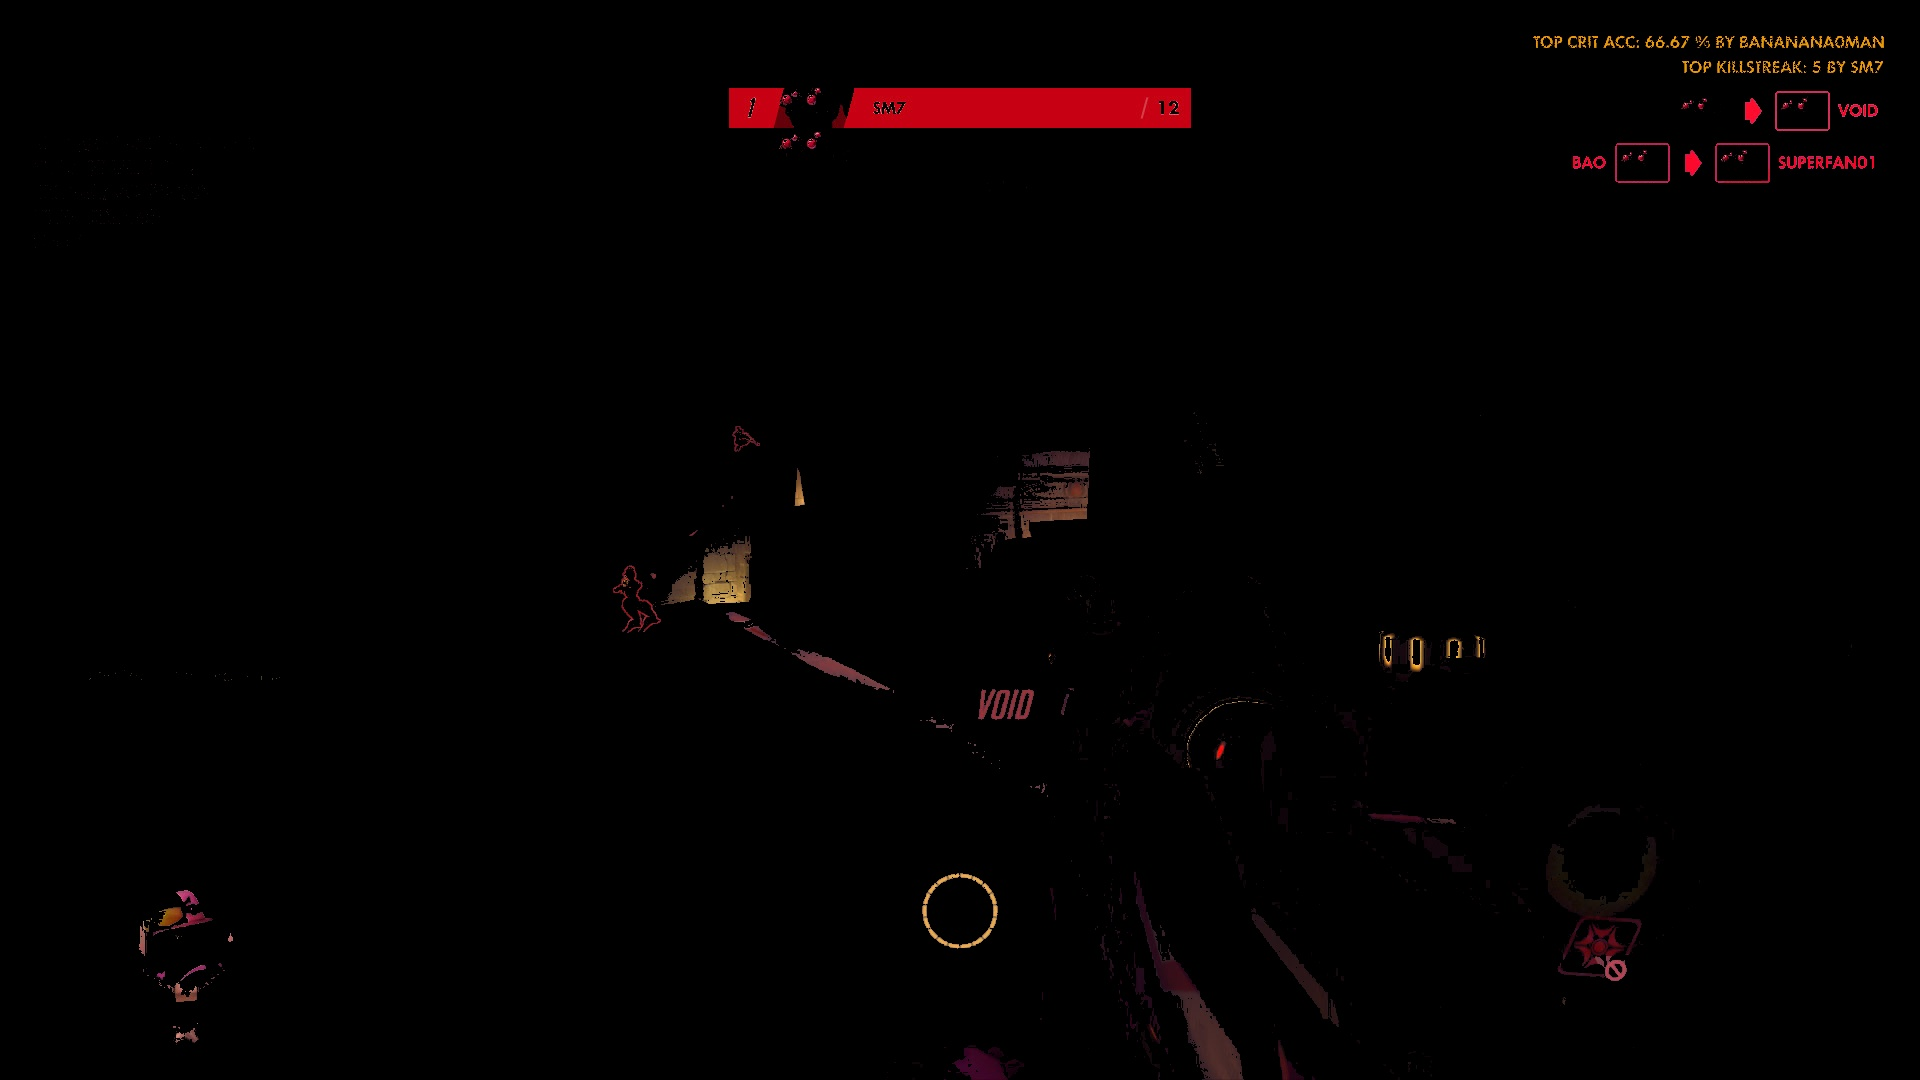widowmaker: (611, 566, 665, 641), (731, 425, 750, 452)
